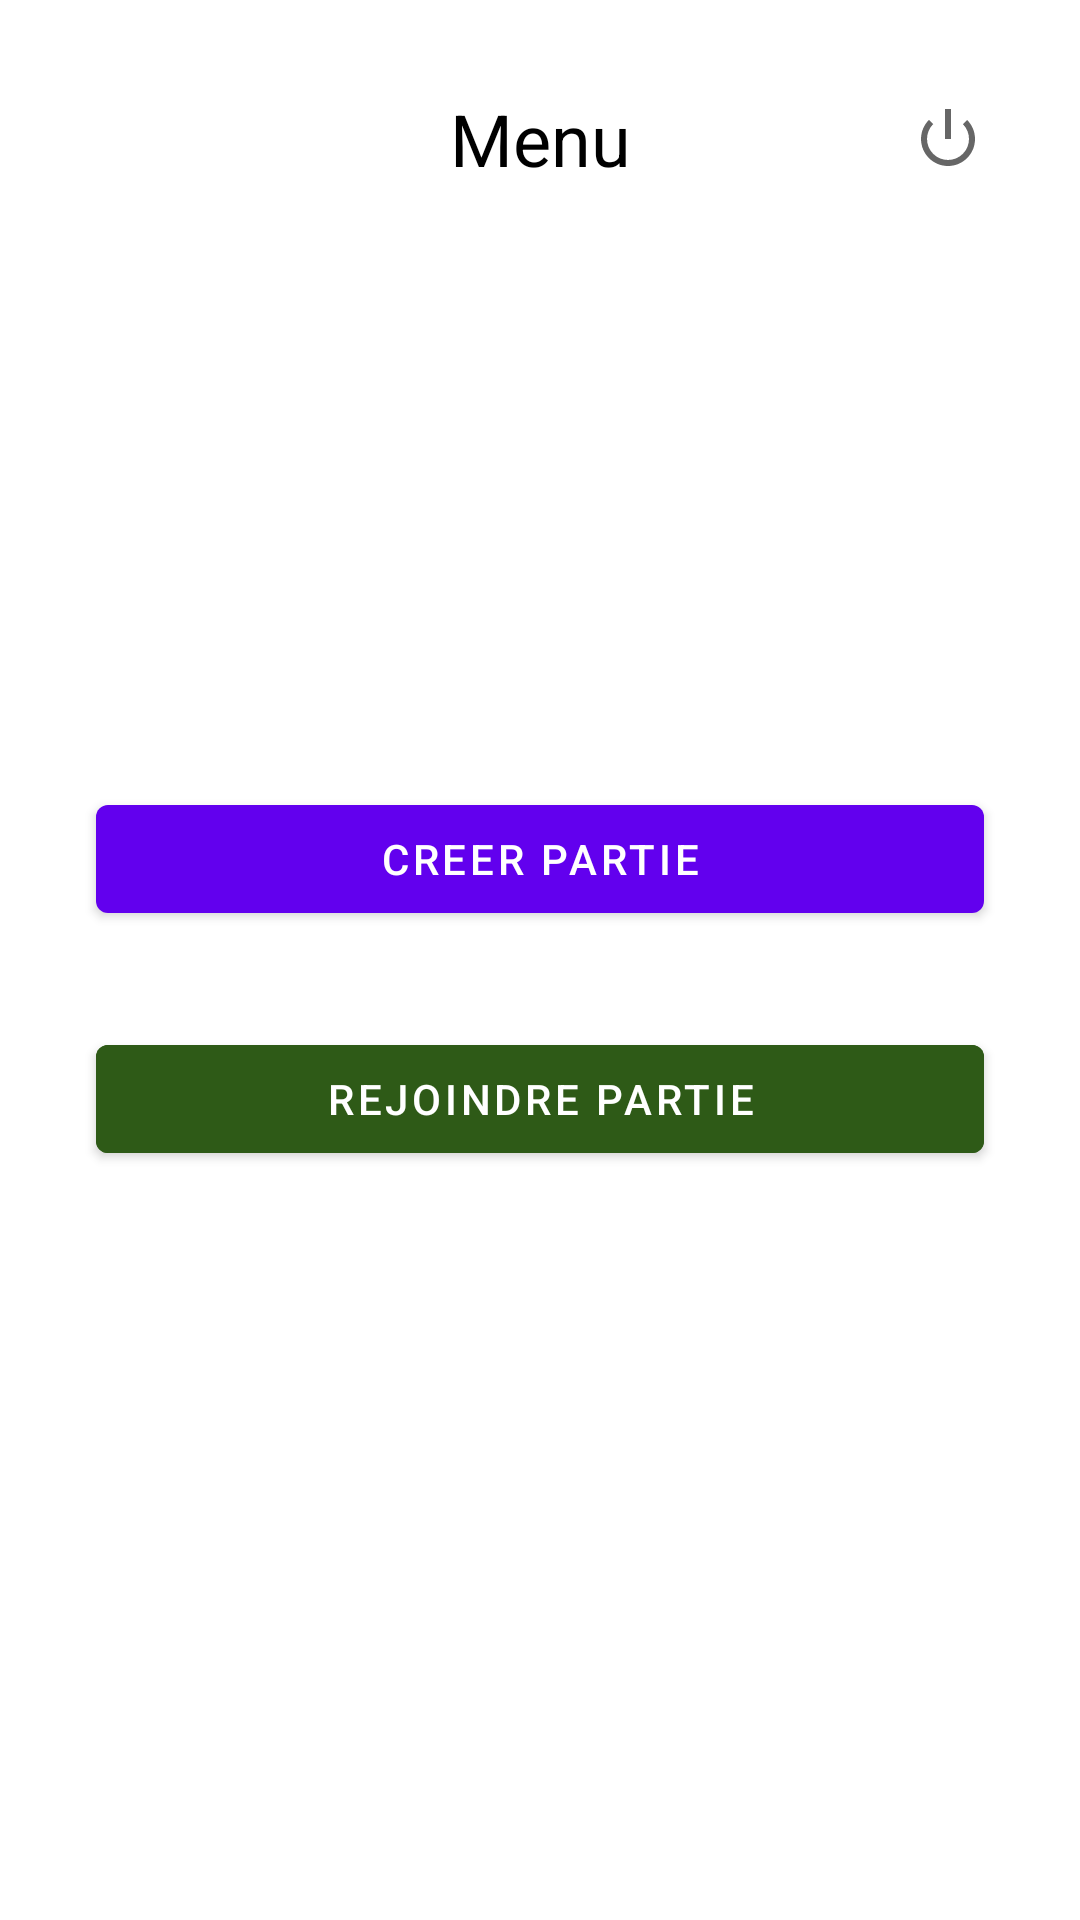

Icon click points for this 1080w x 1920h phone screenshot, format (x=x, y=y):
lock power off: (x=948, y=137)
